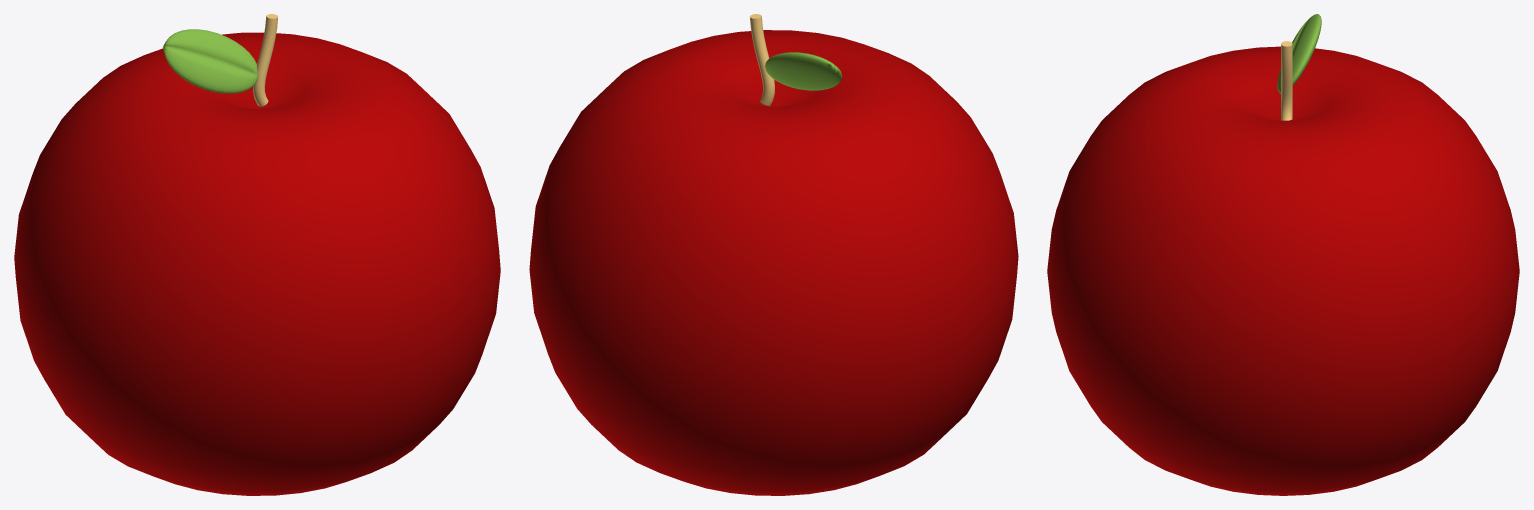
File: asset.glb
3 renders of one model, left to right at view 1: azimuth 30°, elevation 25°; view 2: azimuth 150°, elevation 25°; view 3: azimuth 270°, elevation 25°, orthographic. The views are drawn at different scales.
Parts seen in each view (by area): view 1: Sphere.003, Sphere.002, BezierCurve.001; view 2: Sphere.003, Sphere.002, BezierCurve.001; view 3: Sphere.003, Sphere.002, BezierCurve.001.
Boxes of the visible parts, bbox=[...] form: Sphere.003: bbox=[14, 32, 500, 495]; Sphere.002: bbox=[162, 29, 258, 93]; BezierCurve.001: bbox=[253, 14, 277, 106]; Sphere.003: bbox=[529, 30, 1018, 495]; Sphere.002: bbox=[765, 52, 842, 90]; BezierCurve.001: bbox=[750, 14, 774, 106]; Sphere.003: bbox=[1047, 46, 1519, 495]; Sphere.002: bbox=[1277, 14, 1321, 93]; BezierCurve.001: bbox=[1281, 41, 1292, 120].
Size of the model in its own units: 0.4437 by 0.4267 by 0.4437.
